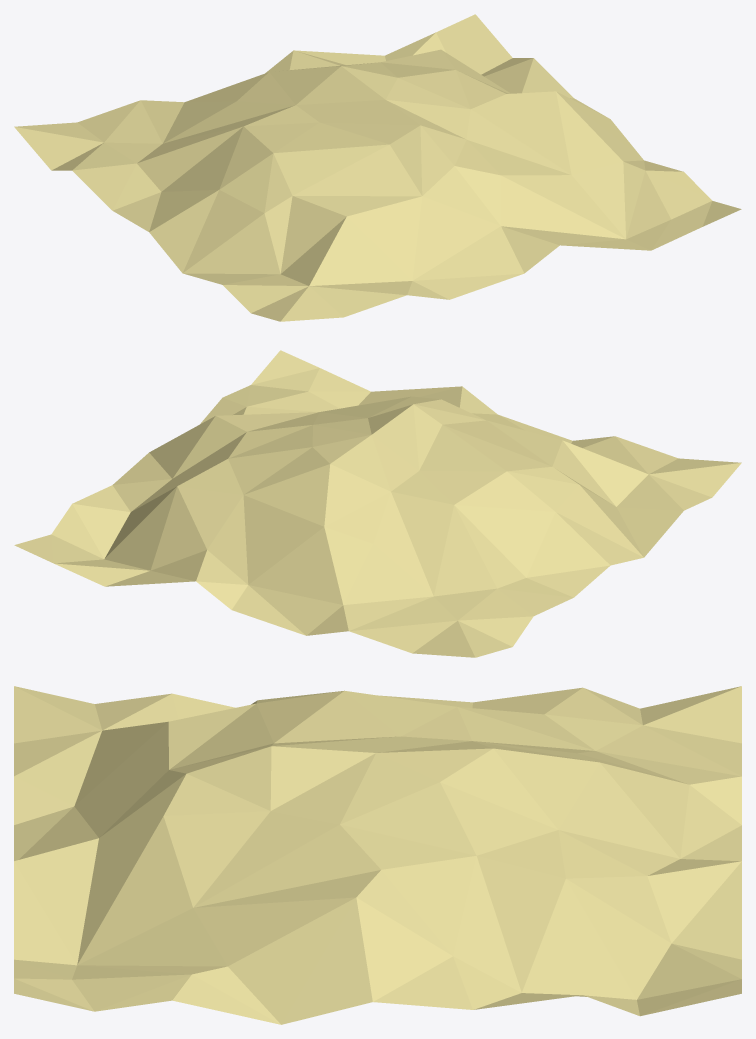
The model's file is Ground2.fbx.
The picture shows the model from 3 angles, top to bottom: view 1: azimuth 30°, elevation 25°; view 2: azimuth 150°, elevation 25°; view 3: azimuth 270°, elevation 25°; orthographic projection. The views are drawn at different scales.
Parts seen in each view (by area): view 1: Ground2; view 2: Ground2; view 3: Ground2.
Boxes of the visible parts, x1,y1,x2,y2 form: Ground2: (14, 14, 741, 321); Ground2: (14, 350, 741, 657); Ground2: (14, 686, 741, 1024).
Bounding box in the file's own units: 4 × 0.8286 × 4.
